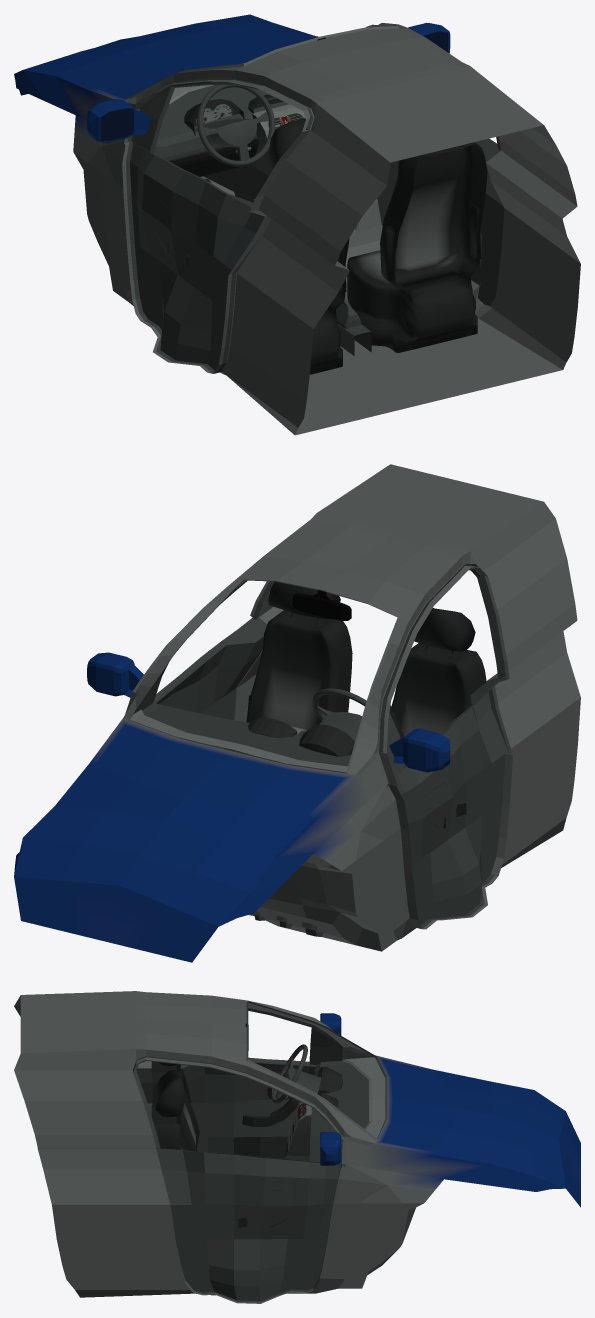
Rendered from car.glb.
3 views of the same model, one above another, from view 1: azimuth 30°, elevation 25°; view 2: azimuth 150°, elevation 25°; view 3: azimuth 270°, elevation 25° (orthographic). The views are drawn at different scales.
Parts seen in each view (by area): view 1: chasis, door_v2, chair, baseVolante, volante, retrovisor, box, speeder; view 2: chasis, door_v2, chair, baseVolante, retrovisor, speeder, volante, espejoFrontal, display; view 3: chasis, door_v2, baseVolante, chair, retrovisor, volante, abre_puertas, speeder.
Boxes of the visible parts, <box> form: chasis: <box>14,14,580,435</box>; door_v2: <box>126,78,504,372</box>; chair: <box>220,118,487,374</box>; baseVolante: <box>153,85,371,356</box>; volante: <box>195,85,275,166</box>; retrovisor: <box>87,23,450,142</box>; box: <box>168,137,258,176</box>; speeder: <box>184,99,244,135</box>; chasis: <box>14,464,580,962</box>; door_v2: <box>135,564,508,928</box>; chair: <box>246,581,486,736</box>; baseVolante: <box>129,703,351,915</box>; retrovisor: <box>87,652,450,772</box>; speeder: <box>299,724,354,756</box>; volante: <box>312,688,366,741</box>; espejoFrontal: <box>292,590,351,620</box>; display: <box>248,717,297,737</box>; chasis: <box>14,991,580,1303</box>; door_v2: <box>133,1008,342,1302</box>; baseVolante: <box>285,1057,385,1161</box>; chair: <box>151,1061,215,1295</box>; retrovisor: <box>320,1013,341,1165</box>; volante: <box>272,1044,321,1104</box>; abre_puertas: <box>238,1087,299,1227</box>; speeder: <box>317,1067,342,1094</box>.
Bounding box in the file's own units: 4.17 × 3.28 × 7.33.
Materials: 4 (1 with a texture image).
